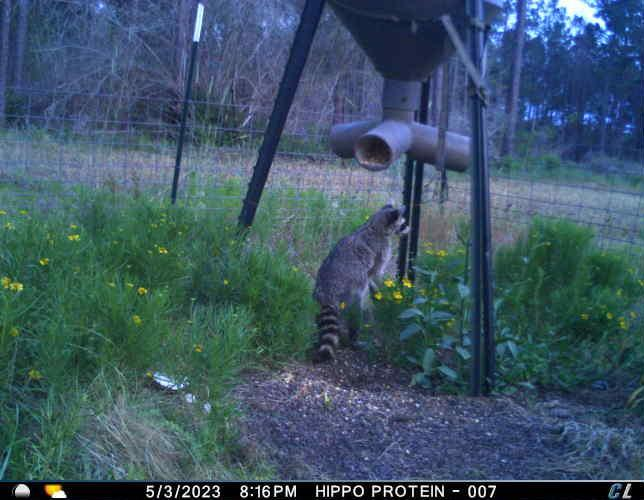Raccoon: (311, 197, 416, 363)
